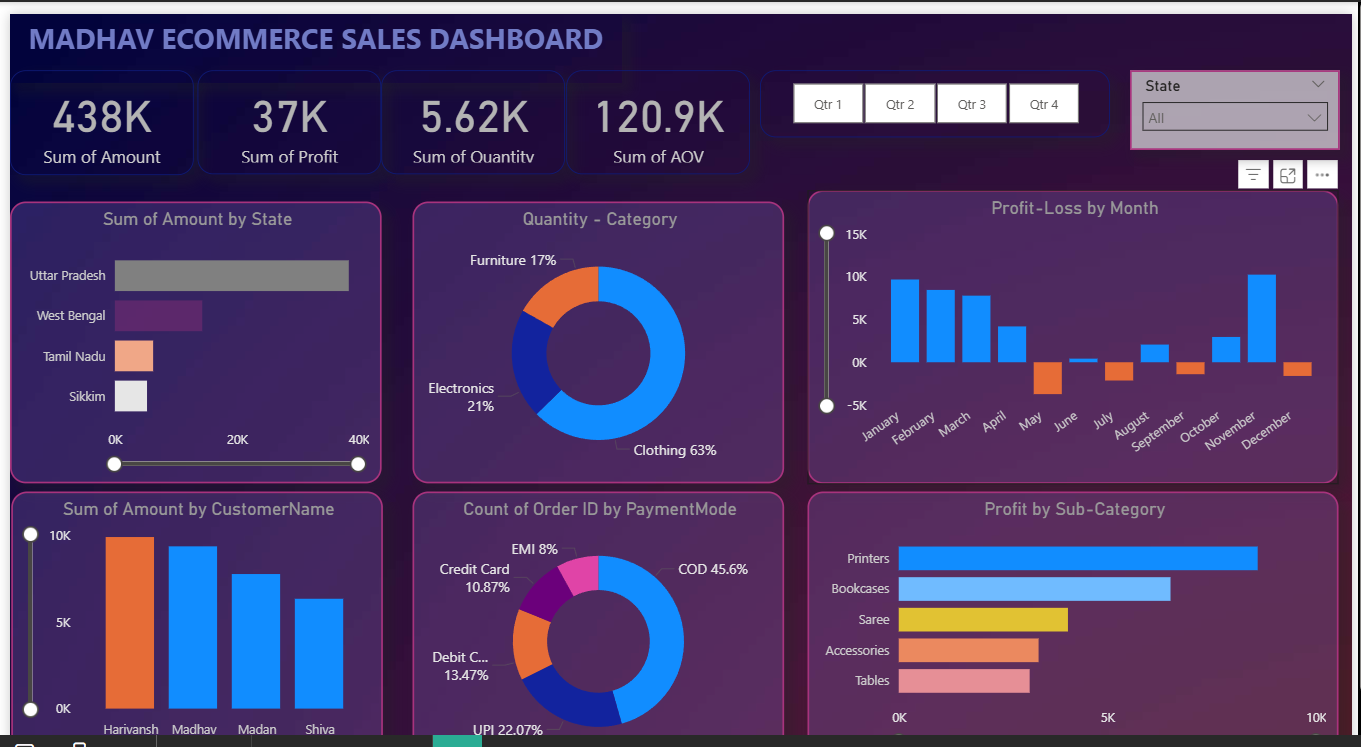

This screenshot's page, from the dashboard's own definition file:
{"tool":"powerbi","page":{"name":"Page 1","canvas":[1280,720],"ordinal":0},"visuals":[{"type":"columnChart","title":"Profit-Loss by Month","fields":{"Y":["Sum(Details.Profit)"],"Category":["Orders.Order Date.Variation.Date Hierarchy.Month"]},"box":[760.7,168.1,506.8,279.8],"z":0},{"type":"textbox","box":[0,0,583.4,65.9],"z":1000},{"type":"barChart","title":"Profit by Sub-Category","fields":{"Category":["Details.Sub-Category"],"Y":["Sum(Details.Profit)"]},"box":[760.7,455.2,506.8,256.4],"z":2000},{"type":"donutChart","title":"Quantity - Category","fields":{"Category":["Details.Category"],"Y":["Sum(Details.Quantity)"]},"box":[384.1,179.1,354.6,268.7],"z":3000},{"type":"donutChart","fields":{"Category":["Details.PaymentMode"],"Y":["CountNonNull(Details.Order ID)"]},"box":[384.1,455.2,354.6,265],"z":4000},{"type":"barChart","fields":{"Category":["Orders.State"],"Y":["Sum(Details.Amount)"]},"box":[0,179.1,354.6,268.7],"z":5000},{"type":"columnChart","fields":{"Category":["Orders.CustomerName"],"Y":["Sum(Details.Amount)"]},"box":[1.2,455.2,354.6,265],"z":6000},{"type":"card","fields":{"Values":["Sum(Details.Amount)"]},"box":[0,54,175,100],"z":7000},{"type":"card","fields":{"Values":["Sum(Details.Profit)"]},"box":[179.1,54,175.5,99.4],"z":8000},{"type":"card","fields":{"Values":["Sum(Details.Quantity)"]},"box":[354.6,54,175.5,99.4],"z":9000},{"type":"card","fields":{"Values":["Sum(Details.AOV)"]},"box":[530.1,54,175.5,99.4],"z":10000},{"type":"slicer","fields":{"Values":["Orders.Order Date.Variation.Date Hierarchy.Quarter"]},"box":[715.3,54,333.7,63.8],"z":10001},{"type":"slicer","fields":{"Values":["Orders.State"]},"box":[1067.5,54,200,76.1],"z":10002}]}

Visuals, with their boxes in screenshot pixels (x1, y1, x2, y2), scaled from the page's 1280x720 canvas onto the 1361x747 screenshot:
"Profit-Loss by Month" columnChart: (x1=809, y1=174, x2=1348, y2=465)
textbox: (x1=0, y1=0, x2=620, y2=68)
"Profit by Sub-Category" barChart: (x1=809, y1=472, x2=1348, y2=738)
"Quantity - Category" donutChart: (x1=408, y1=186, x2=785, y2=465)
donutChart - Details.PaymentMode x CountNonNull(Details.Order ID): (x1=408, y1=472, x2=785, y2=746)
barChart - Orders.State x Sum(Details.Amount): (x1=0, y1=186, x2=377, y2=465)
columnChart - Orders.CustomerName x Sum(Details.Amount): (x1=1, y1=472, x2=378, y2=746)
card - Sum(Details.Amount): (x1=0, y1=56, x2=186, y2=160)
card - Sum(Details.Profit): (x1=190, y1=56, x2=377, y2=159)
card - Sum(Details.Quantity): (x1=377, y1=56, x2=564, y2=159)
card - Sum(Details.AOV): (x1=564, y1=56, x2=750, y2=159)
slicer - Orders.Order Date.Variation.Date Hierarchy.Quarter: (x1=761, y1=56, x2=1115, y2=122)
slicer - Orders.State: (x1=1135, y1=56, x2=1348, y2=135)
